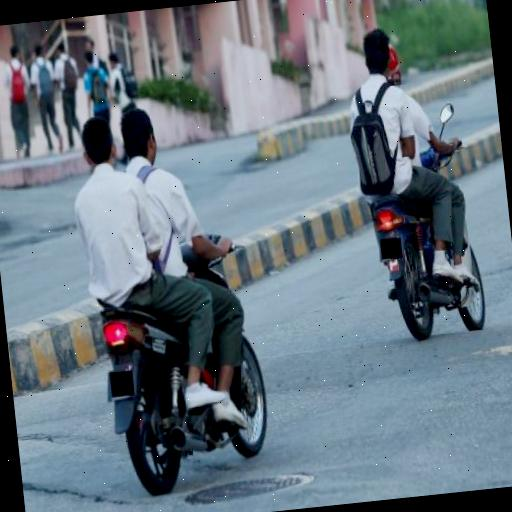helmet: (333, 0, 495, 361)
no helmet: (94, 82, 277, 480)
